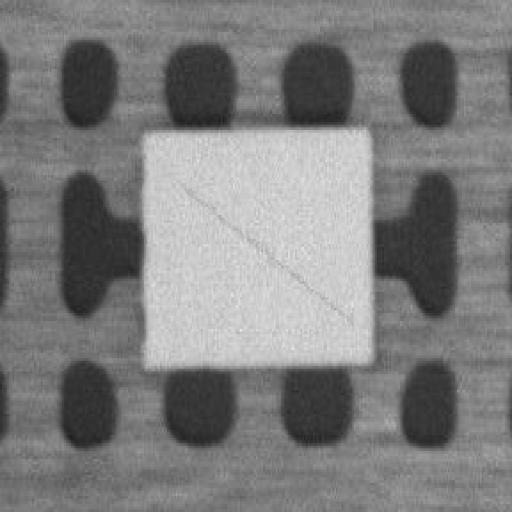DIE_CRACK: (274, 124, 512, 214)
